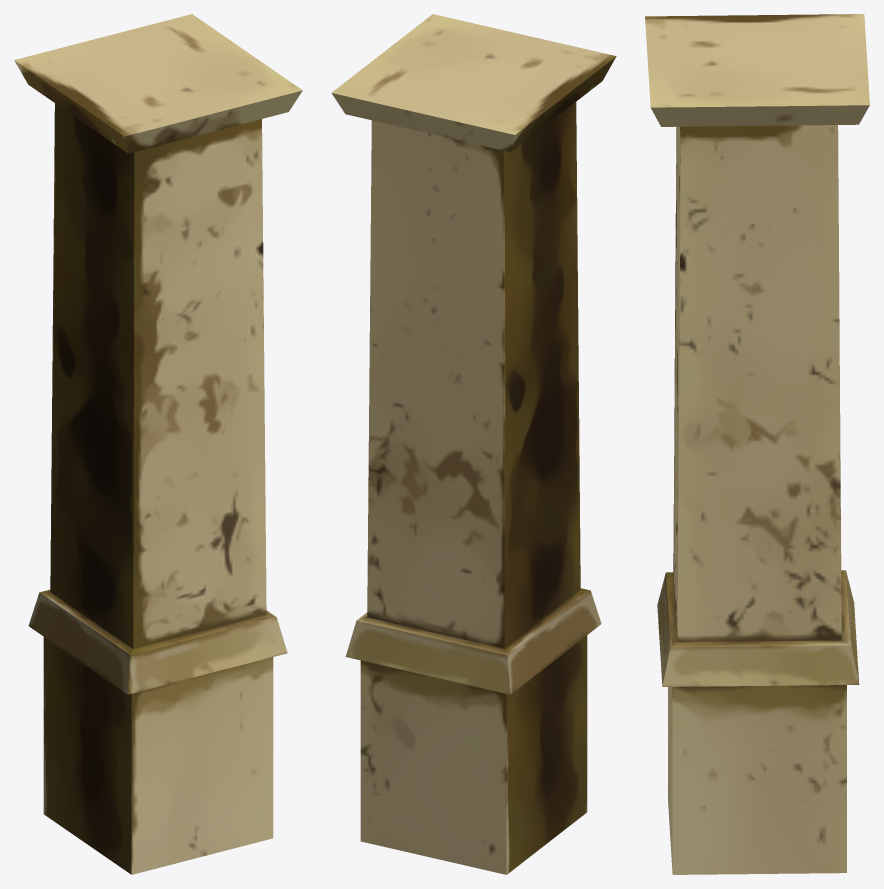
Rendered from Rome_Village_Props_42.FBX.
3 views of the same model, side by side, from view 1: azimuth 30°, elevation 25°; view 2: azimuth 150°, elevation 25°; view 3: azimuth 270°, elevation 25° (orthographic). The views are drawn at different scales.
Parts seen in each view (by area): view 1: Rome_Village_Props_42; view 2: Rome_Village_Props_42; view 3: Rome_Village_Props_42.
Boxes of the visible parts, x1,y1,x2,y2 form: Rome_Village_Props_42: [14, 14, 302, 874]; Rome_Village_Props_42: [331, 14, 616, 874]; Rome_Village_Props_42: [645, 14, 869, 874].
Bounding box in the file's own units: 81.42 × 315 × 82.65.
